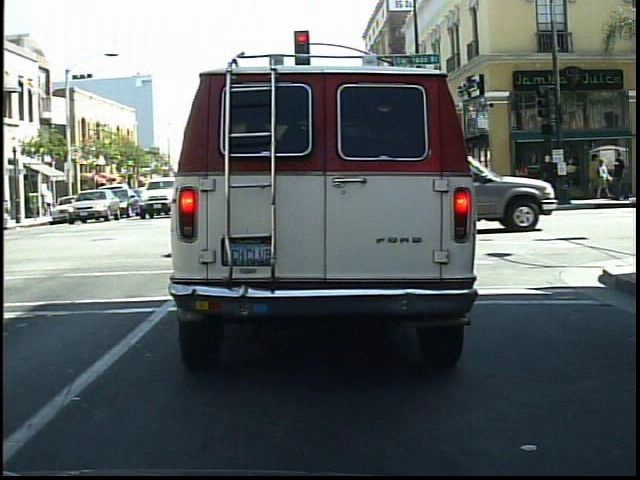person: (609, 141, 633, 209), (539, 151, 562, 208), (524, 156, 525, 195)
